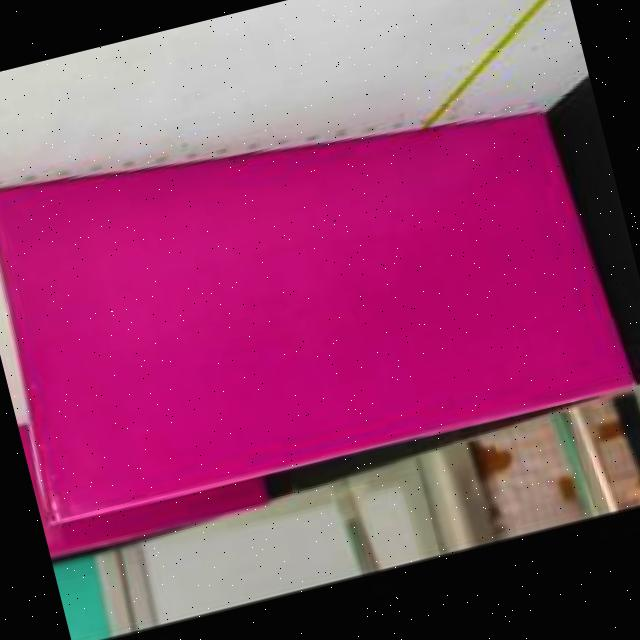xparking: (0, 58, 612, 529)
